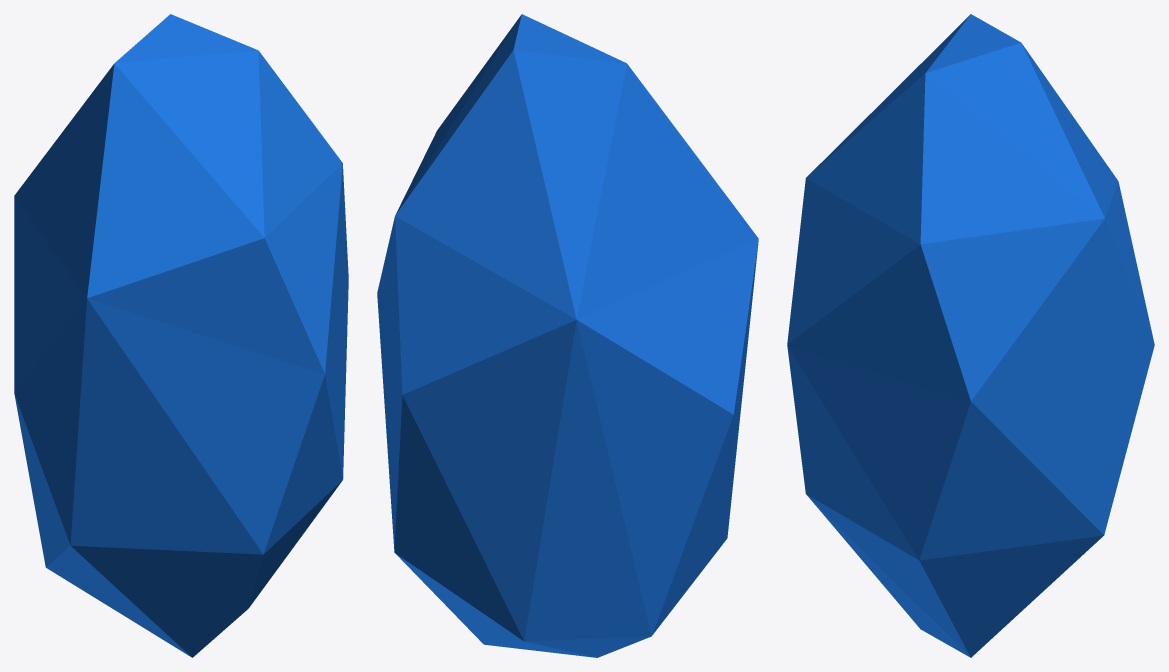
File: Crystal - modular checkpoint.fbx
3 views of the same model, side by side, from view 1: azimuth 30°, elevation 25°; view 2: azimuth 150°, elevation 25°; view 3: azimuth 270°, elevation 25° (orthographic). The views are drawn at different scales.
Parts seen in each view (by area): view 1: Icosphere; view 2: Icosphere; view 3: Icosphere.
Boxes of the visible parts, left/top/right/bottom form: Icosphere: left=14, top=14, right=348, bottom=657; Icosphere: left=377, top=14, right=758, bottom=657; Icosphere: left=787, top=14, right=1154, bottom=657.
Bounding box in the file's own units: 209 × 358 × 199.
